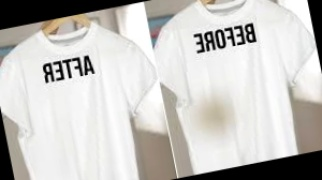oil: (190, 87, 240, 139)
